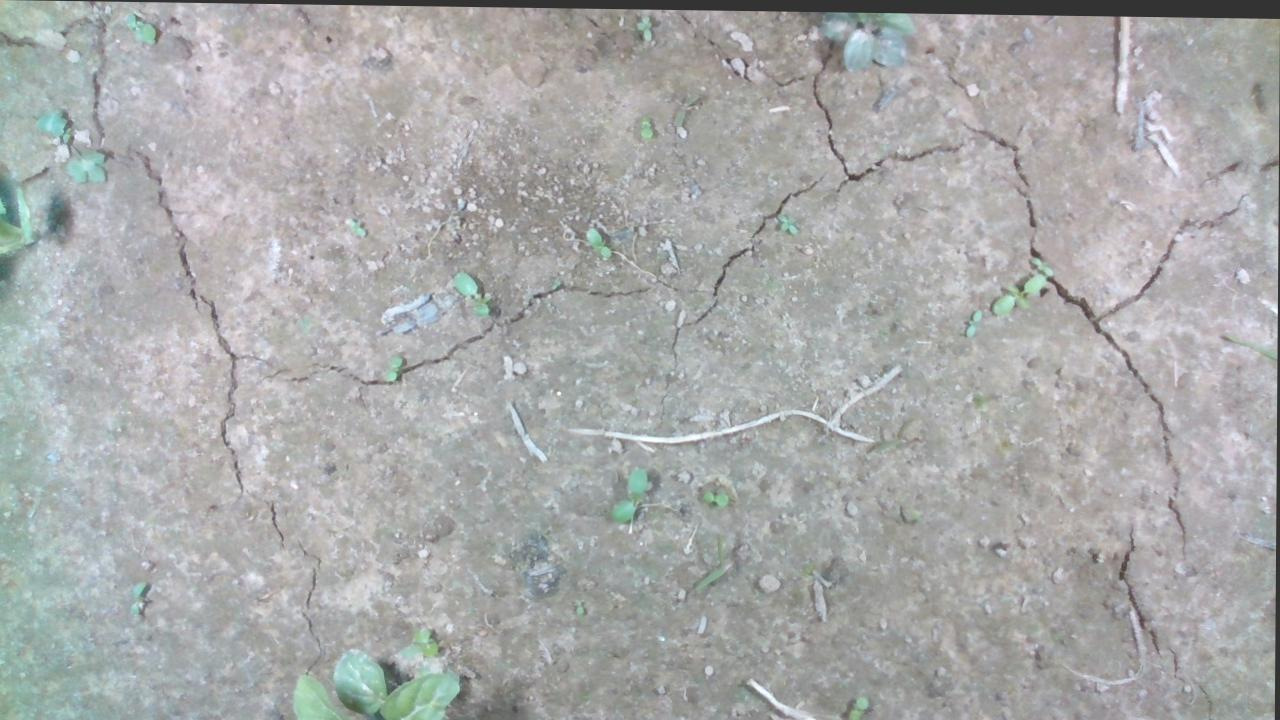weed: (447, 266, 510, 321), (617, 462, 657, 526), (375, 346, 422, 394), (582, 224, 624, 260), (696, 474, 734, 501), (963, 301, 988, 339), (772, 207, 806, 234), (631, 110, 661, 138), (347, 216, 372, 244)
